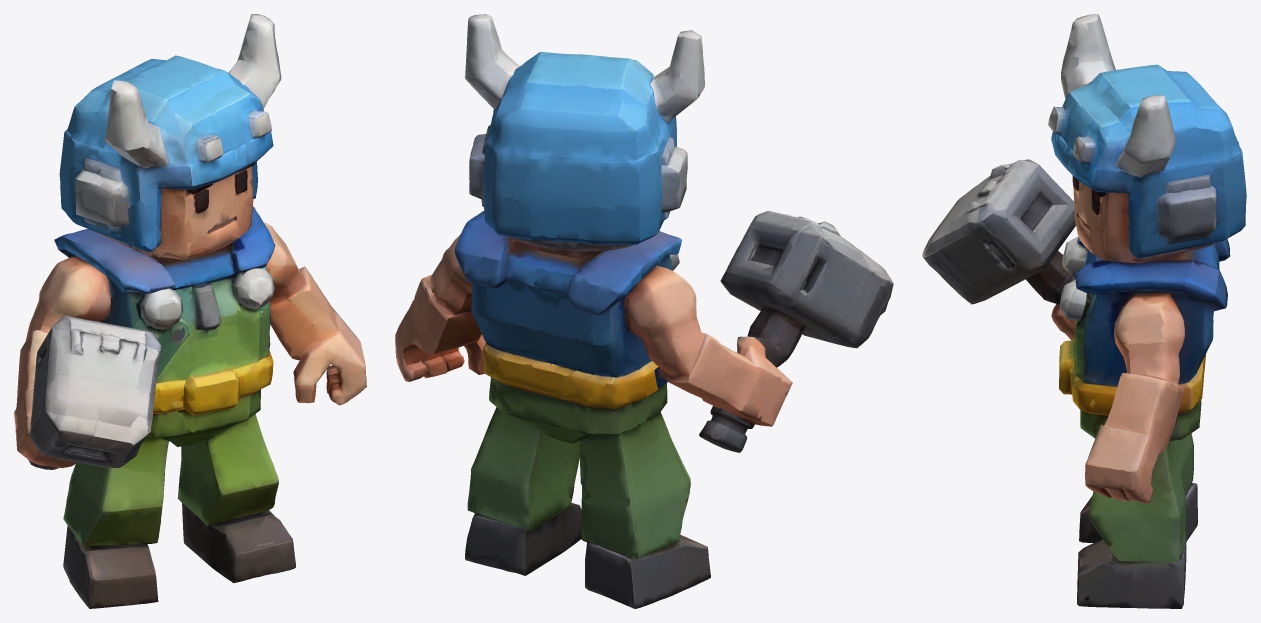
File: thor.glb
The picture shows the model from 3 angles, left to right: view 1: azimuth 30°, elevation 25°; view 2: azimuth 150°, elevation 25°; view 3: azimuth 270°, elevation 25°; orthographic projection. The views are drawn at different scales.
Visible parts, largest first — view 1: head, torso, armL, legR, legL, armR; view 2: head, armL, torso, legL, legR, armR; view 3: head, armR, armL, torso, legR, legL.
Part boxes in pixels (x1,y1,x2,y2): head: (59, 14, 281, 259); torso: (63, 222, 274, 438); armL: (14, 233, 160, 469); legR: (177, 409, 295, 583); legL: (63, 431, 196, 608); armR: (251, 206, 366, 405); head: (465, 14, 704, 251); armL: (617, 211, 893, 452); torso: (463, 223, 681, 434); legL: (560, 412, 710, 608); legR: (465, 407, 581, 575); armR: (395, 211, 486, 381); head: (1048, 14, 1246, 263); armR: (1085, 272, 1223, 503); armL: (922, 159, 1076, 340); torso: (1059, 236, 1230, 440); legR: (1077, 433, 1186, 608); legL: (1079, 433, 1197, 542).
Size of the model in its own units: 2.42 by 3.03 by 1.74.
Materials: 1 (1 with a texture image).
